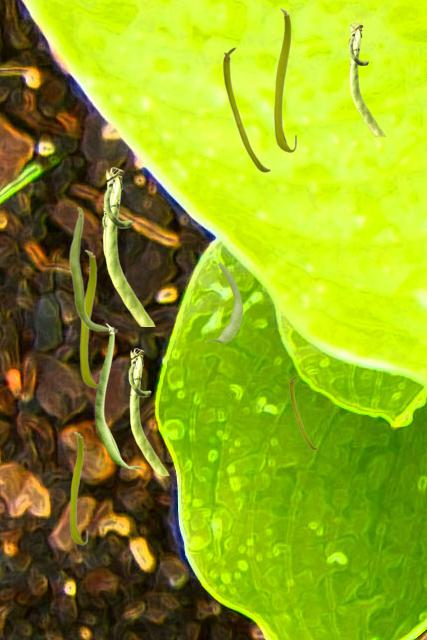french_bean: (103, 167, 154, 325), (95, 323, 139, 468), (68, 206, 117, 332), (222, 46, 270, 172), (128, 348, 168, 474), (348, 22, 384, 135), (273, 7, 296, 152), (204, 261, 242, 342), (79, 249, 100, 387), (289, 375, 317, 449), (69, 431, 87, 544), (102, 208, 105, 256)
